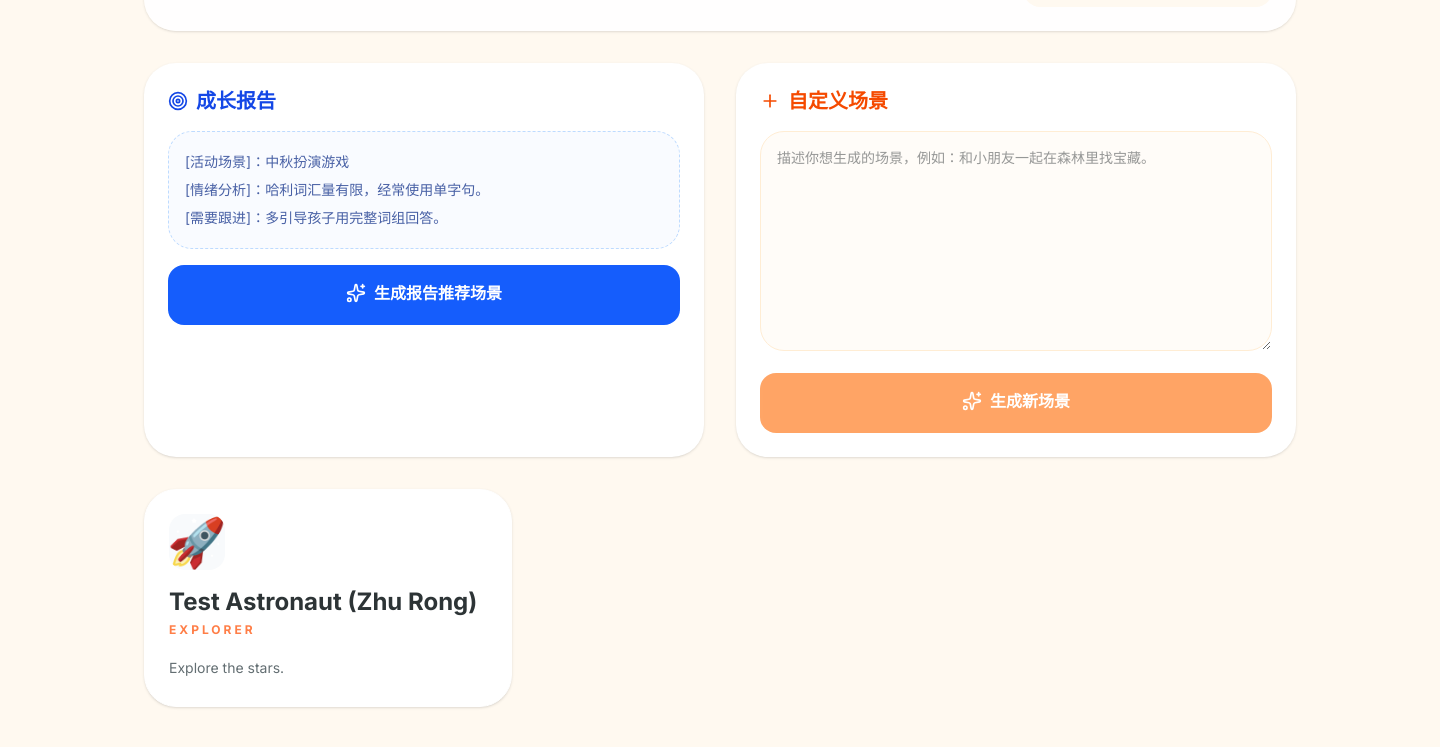
Test case: App interaction flow › shows the simplified greeting text after a character is selected
This screenshot has width=1440, height=747.
(page scrolled)
Step 1. Click the heading "Test Astronaut (Zhu Rong)" → point(328, 602), box [169,586,487,618]
(page scrolled)
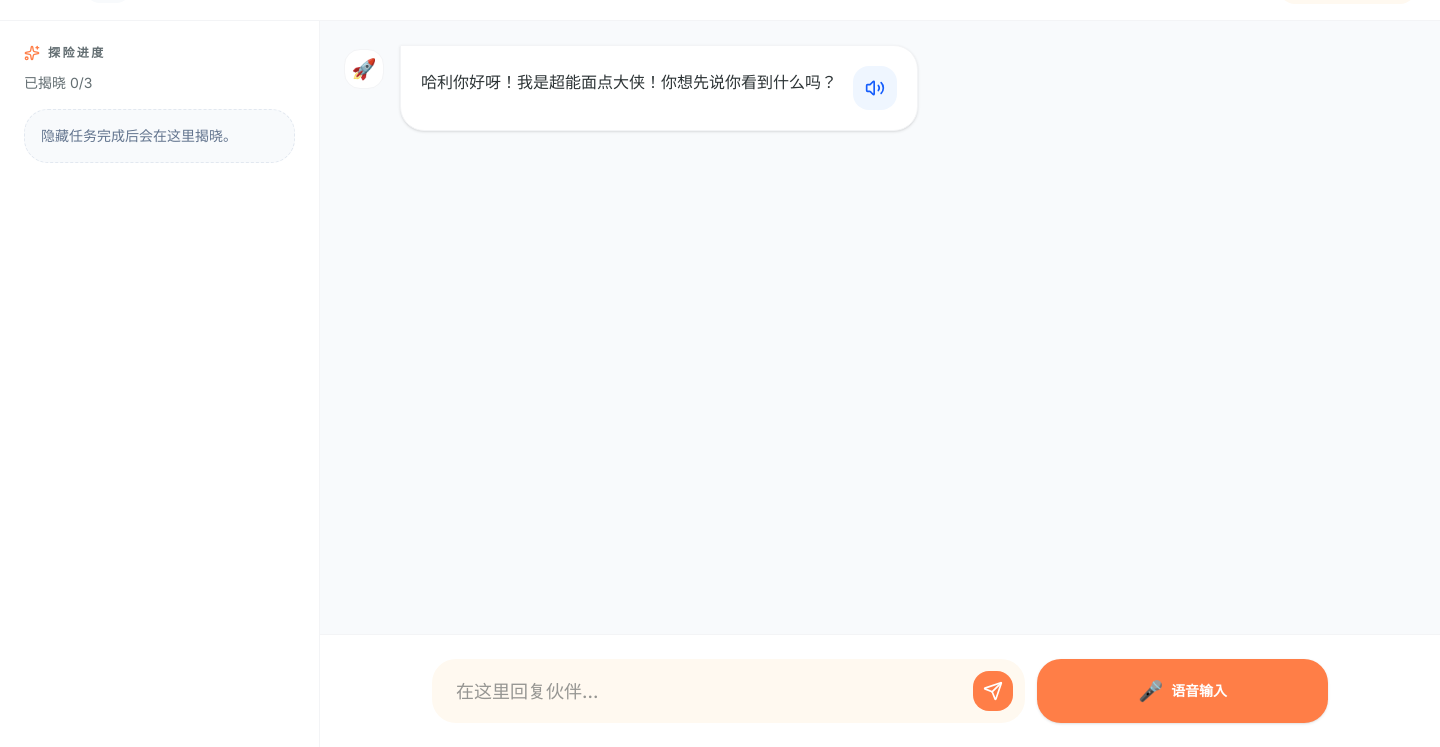
Now the text "哈利你好呀！我是超能面点大侠！你想先说你看到什么吗？" is shown, box [421,66,837,98]
